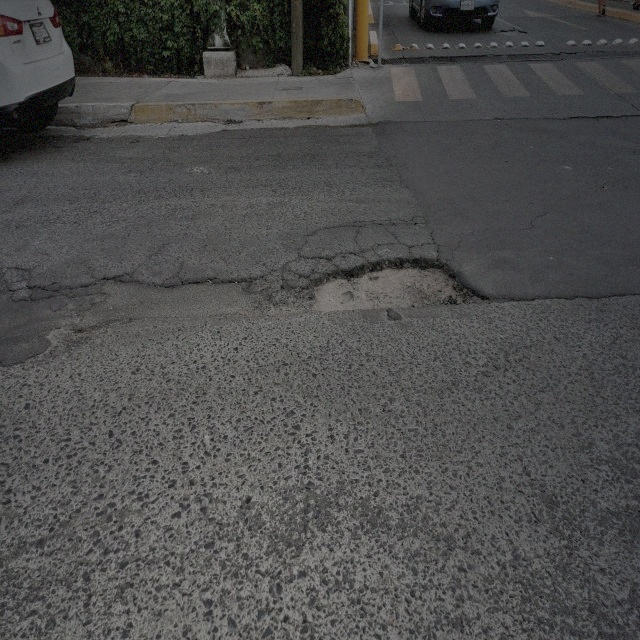pothole: (307, 254, 486, 320)
